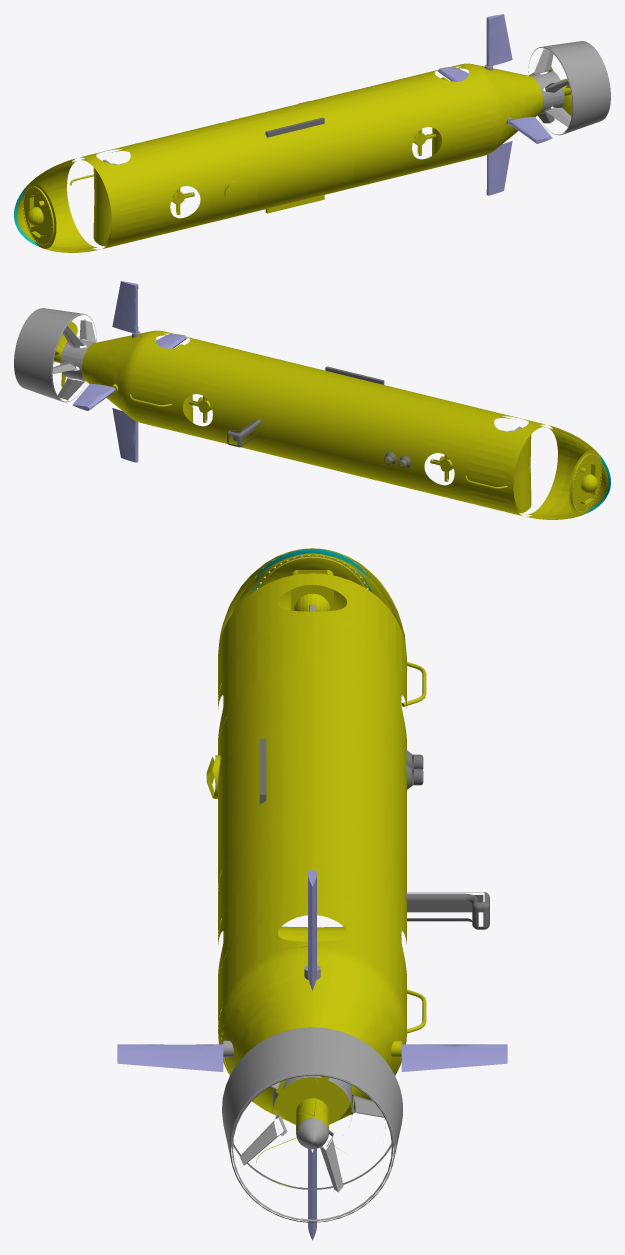
The model's file is auv_model.glb.
3 views of the same model, one above another, from view 1: azimuth 30°, elevation 25°; view 2: azimuth 150°, elevation 25°; view 3: azimuth 270°, elevation 25° (orthographic). The views are drawn at different scales.
Visible parts, largest first — view 1: Geode; view 2: Geode; view 3: Geode.
Boxes of the visible parts, x1=… form: Geode: x1=14, y1=14, x2=610, y2=252; Geode: x1=14, y1=281, x2=610, y2=519; Geode: x1=117, y1=548, x2=507, y2=1240.
Bounding box in the file's own units: 2000 × 590 × 590.
